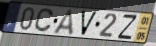0: (19, 7, 37, 32)
2: (98, 13, 119, 39)
A: (52, 9, 75, 37)
C: (33, 7, 55, 34)
V: (80, 10, 99, 38)
Z: (117, 13, 139, 40)
